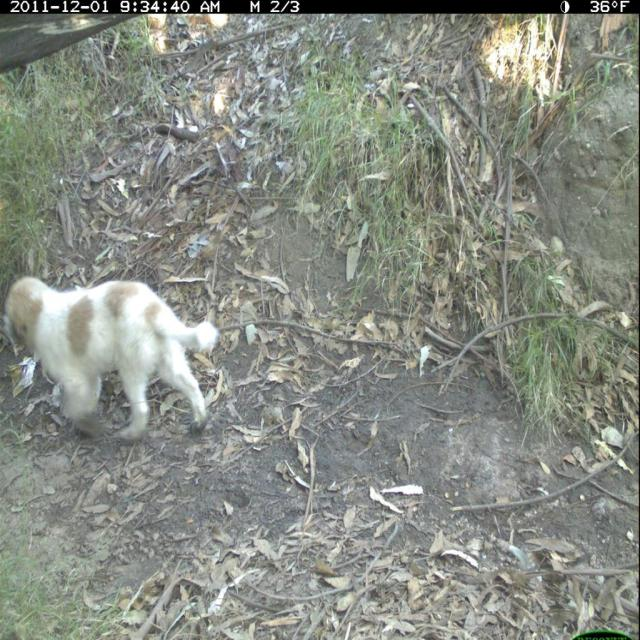dog: (4, 270, 232, 451)
